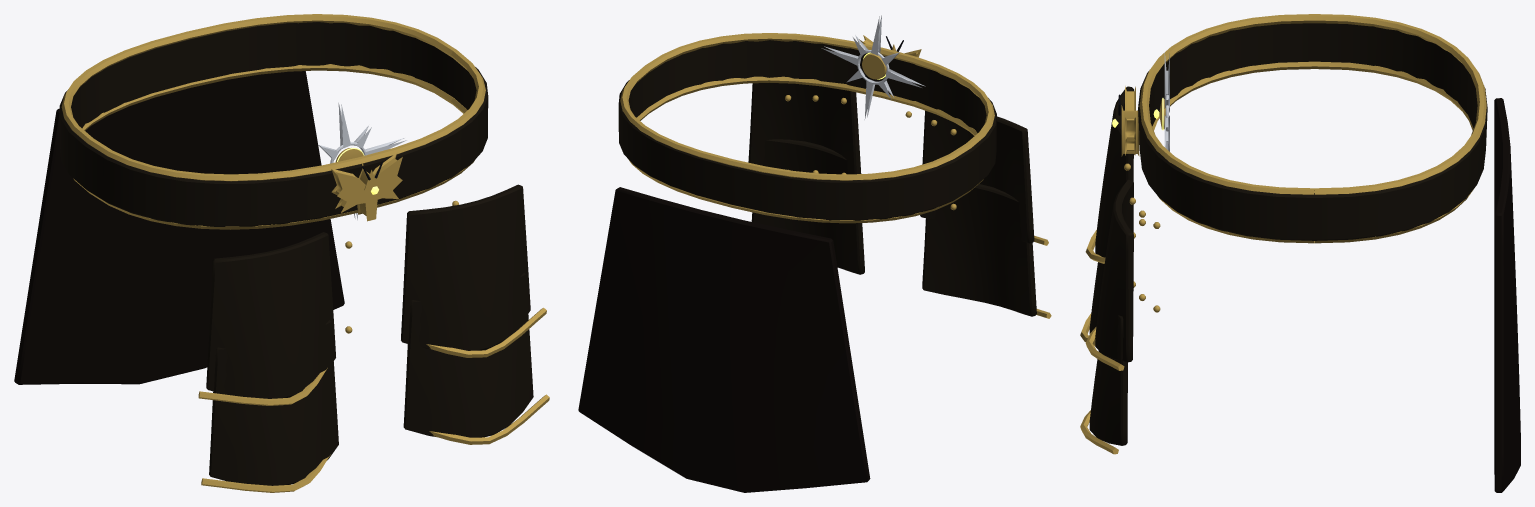
The model's file is esc_null_reaper_inner.glb.
The picture shows the model from 3 angles, left to right: view 1: azimuth 30°, elevation 25°; view 2: azimuth 150°, elevation 25°; view 3: azimuth 270°, elevation 25°; orthographic projection. The views are drawn at different scales.
Parts seen in each view (by area): view 1: esc_null_reaper_inner, AT_thigh_R, AT_thigh_L; view 2: esc_null_reaper_inner, AT_thigh_R, AT_thigh_L; view 3: esc_null_reaper_inner, AT_thigh_L, AT_thigh_R.
Part boxes in pixels (left/top/right/bottom): esc_null_reaper_inner: left=14, top=14, right=488, bottom=384; AT_thigh_R: left=198, top=232, right=352, bottom=492; AT_thigh_L: left=401, top=184, right=549, bottom=444; esc_null_reaper_inner: left=578, top=15, right=996, bottom=492; AT_thigh_R: left=905, top=110, right=1051, bottom=318; AT_thigh_L: left=748, top=83, right=864, bottom=274; esc_null_reaper_inner: left=1112, top=14, right=1520, bottom=492; AT_thigh_L: left=1080, top=180, right=1160, bottom=454; AT_thigh_R: left=1080, top=86, right=1145, bottom=345.
Bounding box in the file's own units: 0.4641 × 0.4771 × 0.4788.
